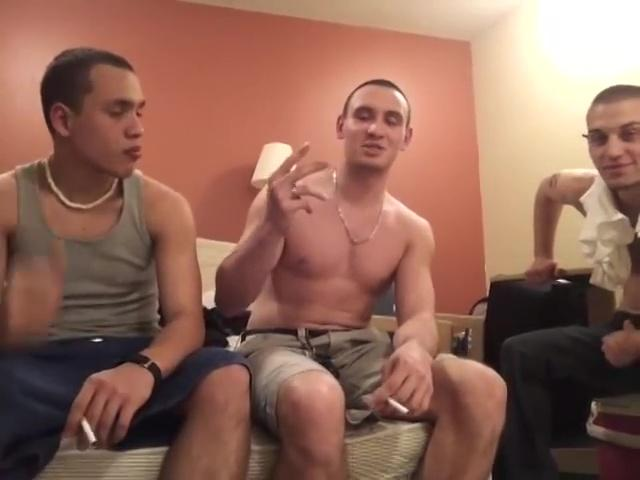cigarette: (384, 394, 413, 418), (79, 417, 100, 448)
